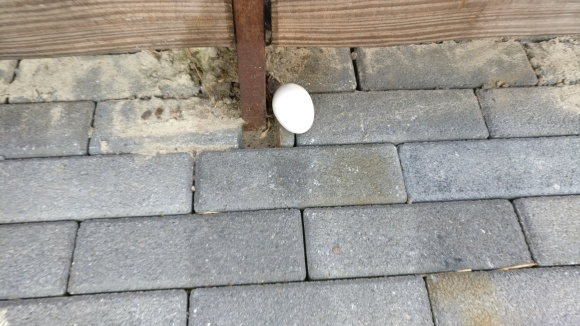egg: (272, 83, 315, 134)
